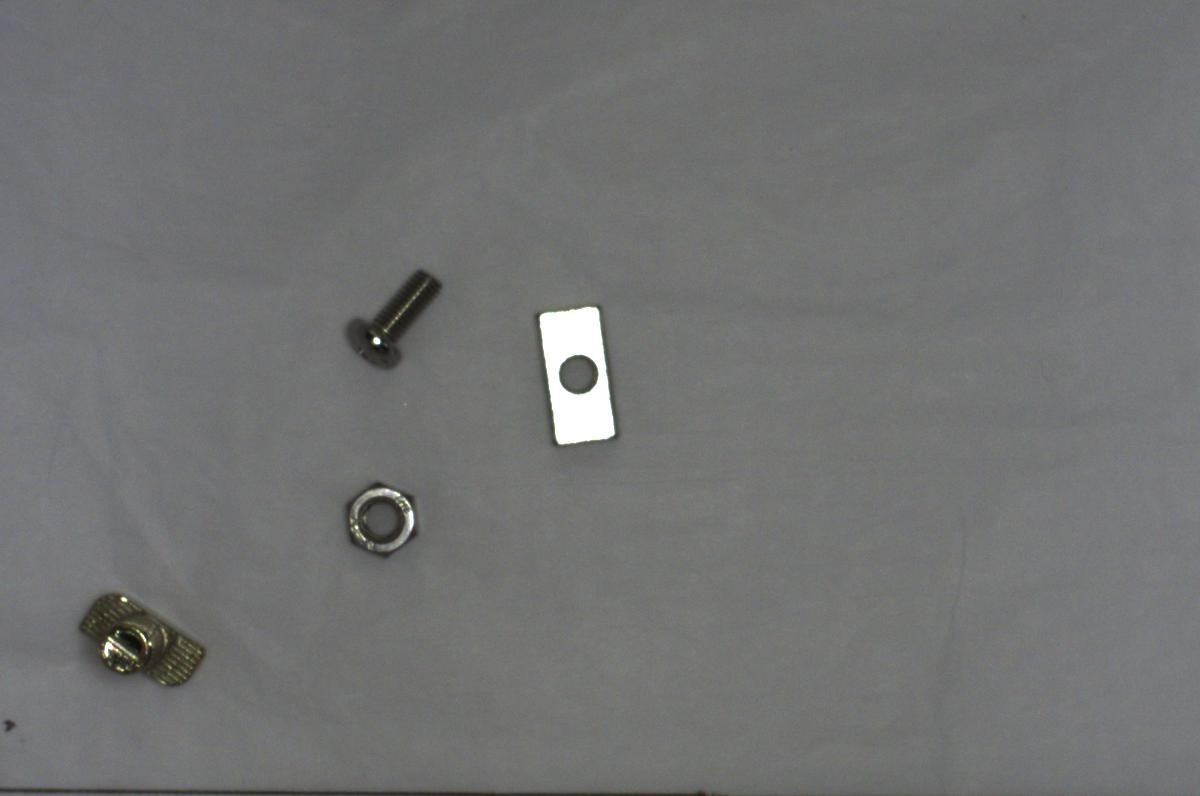Hexagon nut: (345, 474, 425, 562)
Rectangular nut: (532, 299, 628, 454)
Round head screw: (338, 263, 444, 378)
T-shaped screw: (74, 586, 206, 698)
